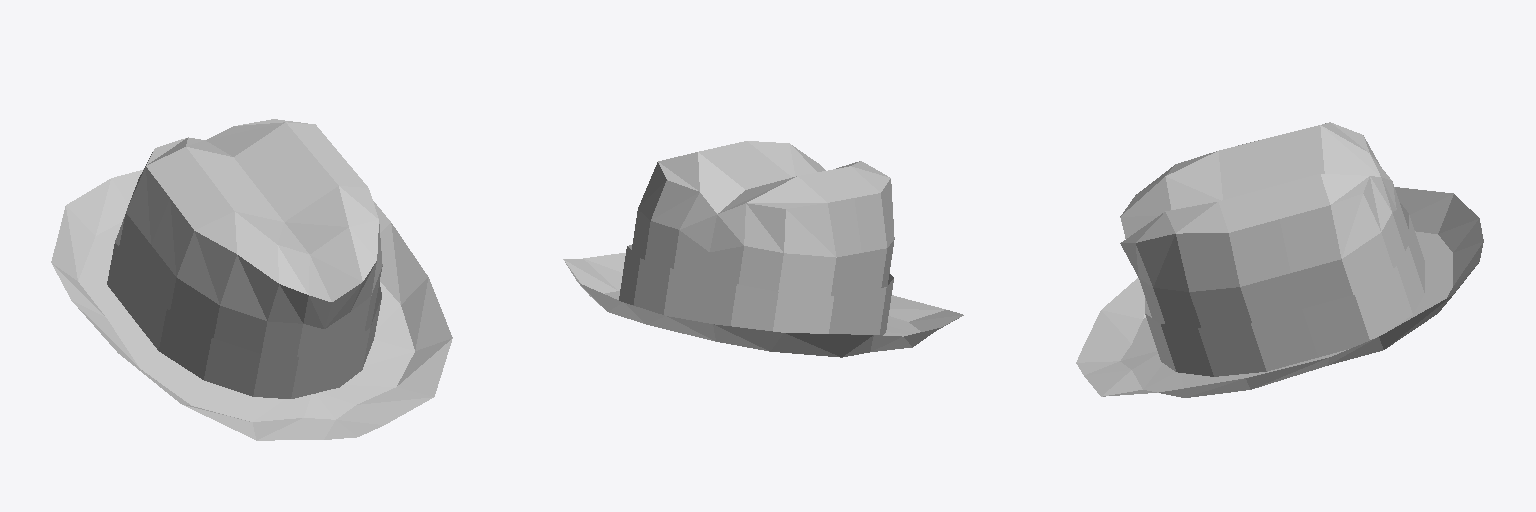
File: fedora.obj
The picture shows the model from 3 angles: view 1: azimuth 30°, elevation 25°; view 2: azimuth 150°, elevation 25°; view 3: azimuth 270°, elevation 25°; orthographic projection.
Visible parts, largest first — view 1: Cube.010_Cube, Cube.011; view 2: Cube.010_Cube, Cube.011; view 3: Cube.010_Cube, Cube.011.
Part boxes in pixels (left/top/right/bottom): Cube.010_Cube: left=51, top=119, right=452, bottom=440; Cube.011: left=107, top=217, right=381, bottom=398; Cube.010_Cube: left=563, top=141, right=963, bottom=357; Cube.011: left=619, top=245, right=893, bottom=335; Cube.010_Cube: left=1076, top=122, right=1483, bottom=397; Cube.011: left=1145, top=203, right=1424, bottom=376.
Bounding box in the file's own units: 0.5978 × 0.3813 × 0.6598.